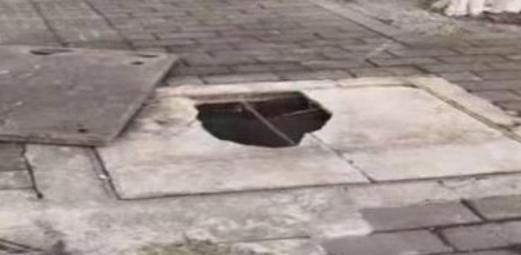wellcover: (0, 34, 521, 208)
